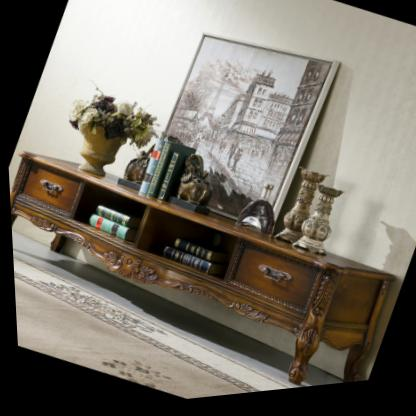TV stand: (8, 153, 392, 390)
